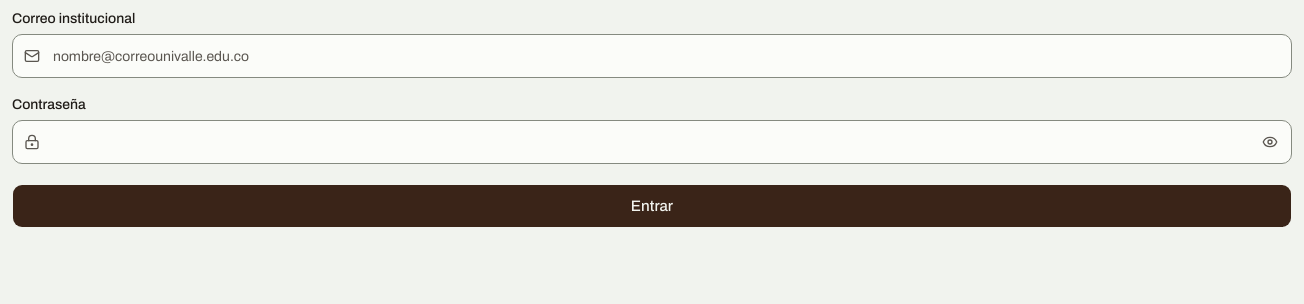
Test case: LoginForm › muestra el error general del servidor
Type "docente@psysim.test" into the field labelled "Correo institucional" at (652, 56), box 12,34 -> 1292,78
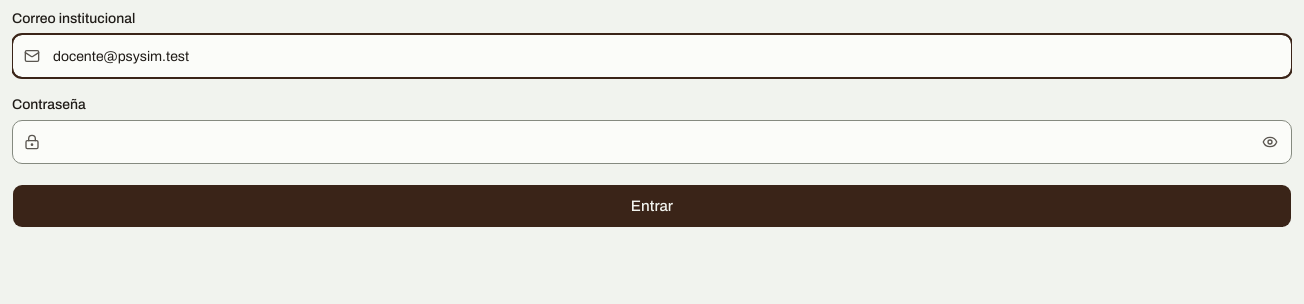
Type "secreta123" into the password field labelled "Contraseña" at (652, 142), box 12,120 -> 1292,164
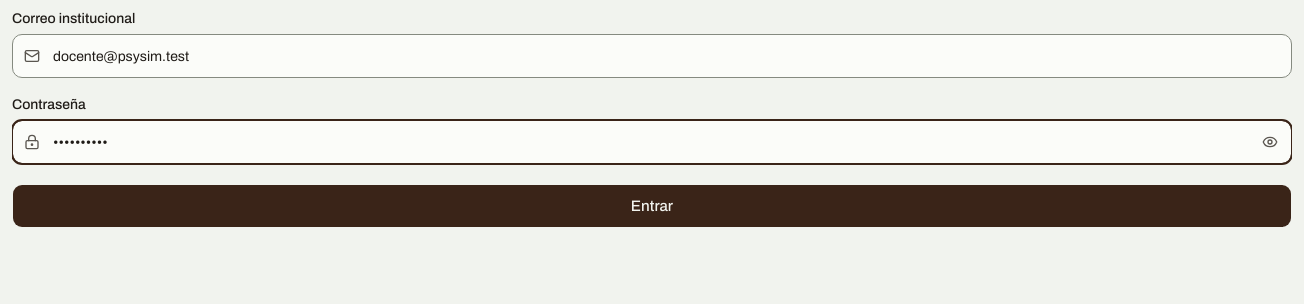
Click the button "Entrar" at (652, 206), box 12,184 -> 1292,228
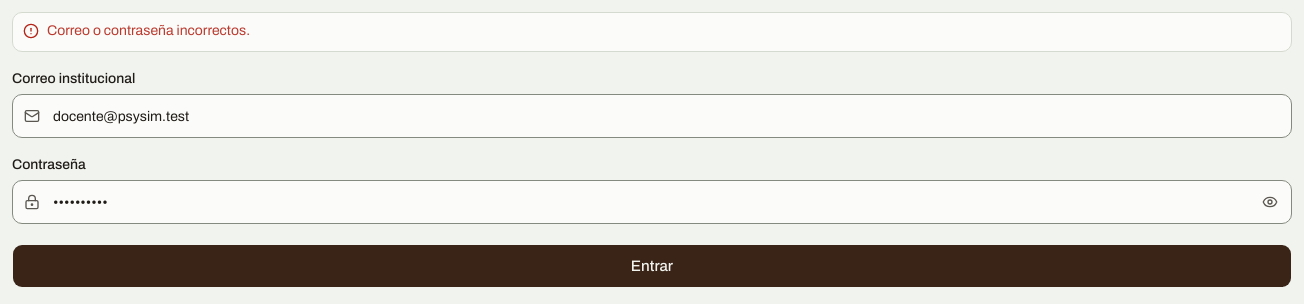
Expected: the message reads "Correo o contraseña incorrectos.", 47,23 -> 250,38
